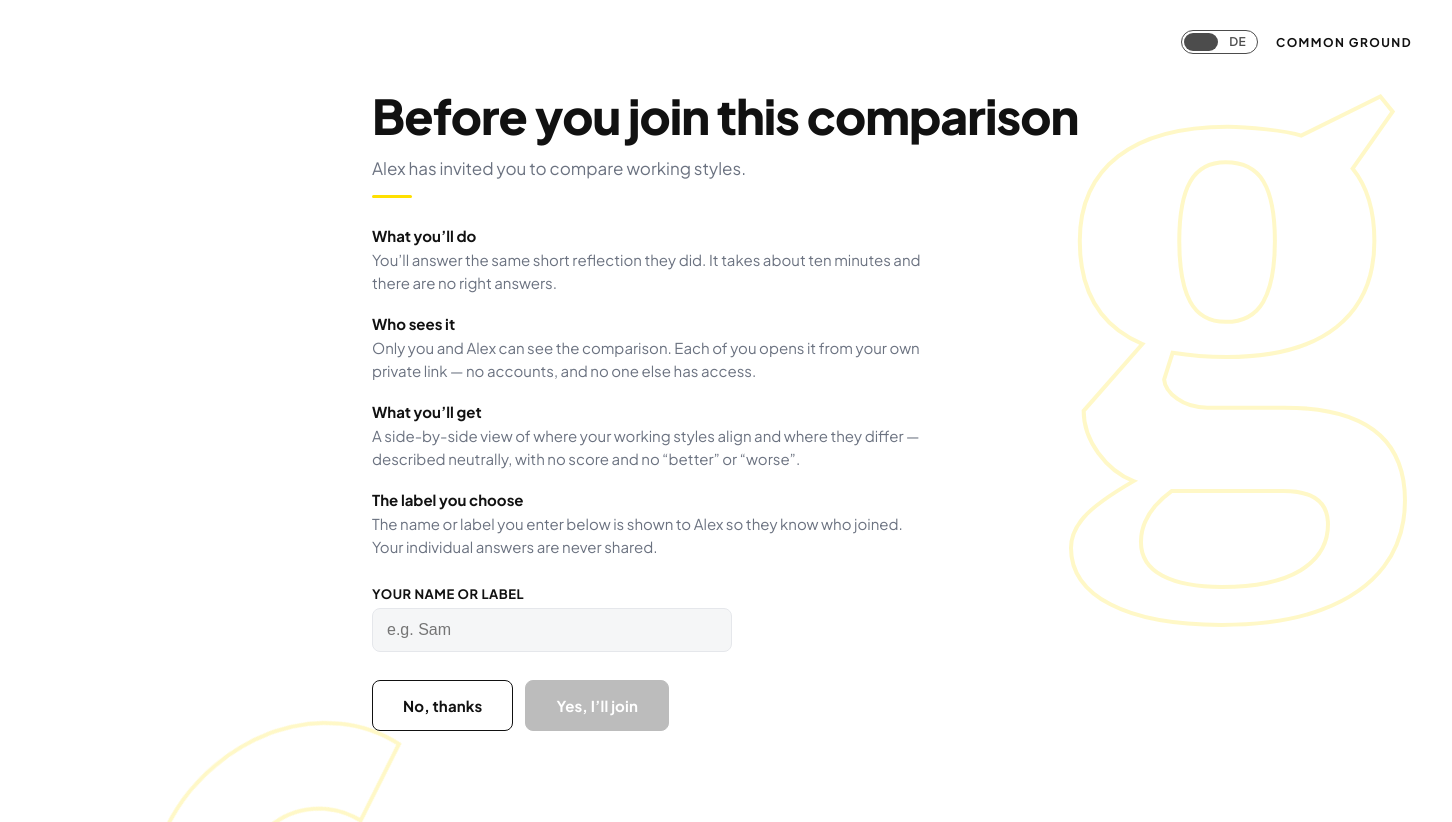
Test: InvitePage (/invite route) › accepting proceeds to the questionnaire and joining returns the invitee’s own credentials
expect the text "Alex has invited you to compare working styles." is shown: met, box [372, 157, 746, 179]
Type "Sam" into the field labelled "Your name or label" at (552, 630), box [372, 608, 732, 652]
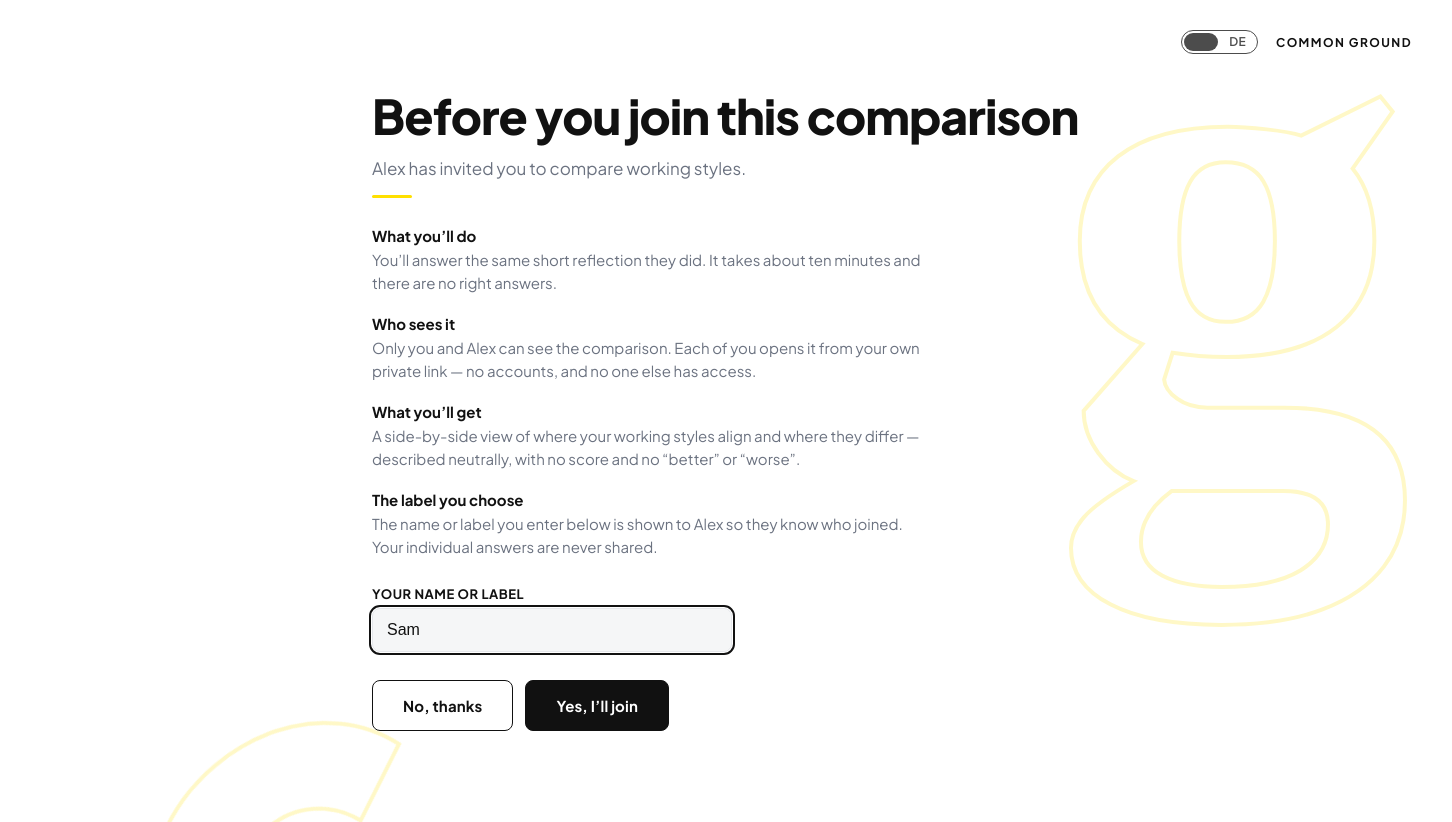
Click the button "Yes, I’ll join" at (597, 706), box [526, 680, 669, 731]
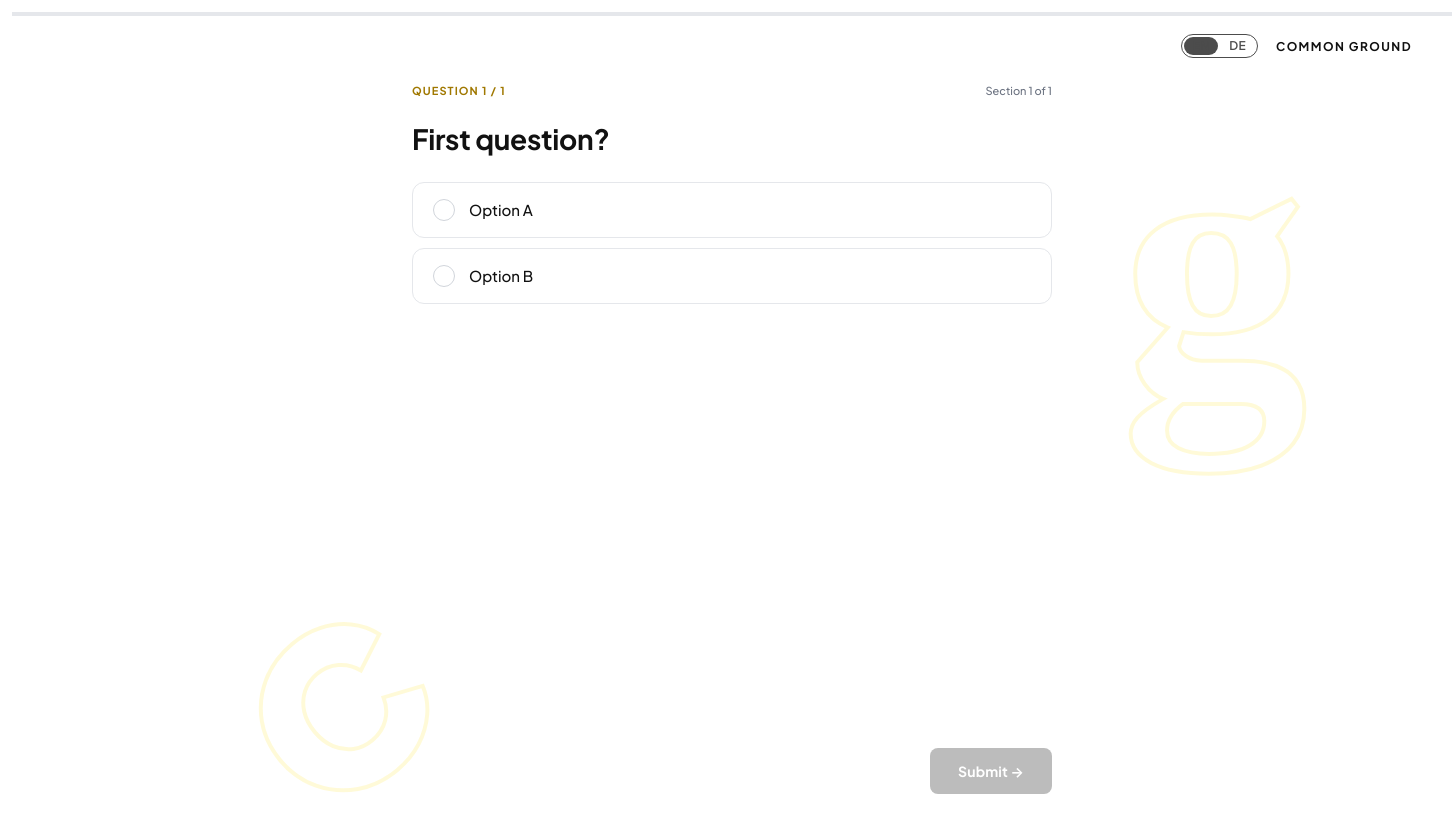
expect the heading "First question?" is shown: met, box [412, 121, 609, 156]
Click the button "Option A" at (501, 209), box [412, 182, 1052, 238]
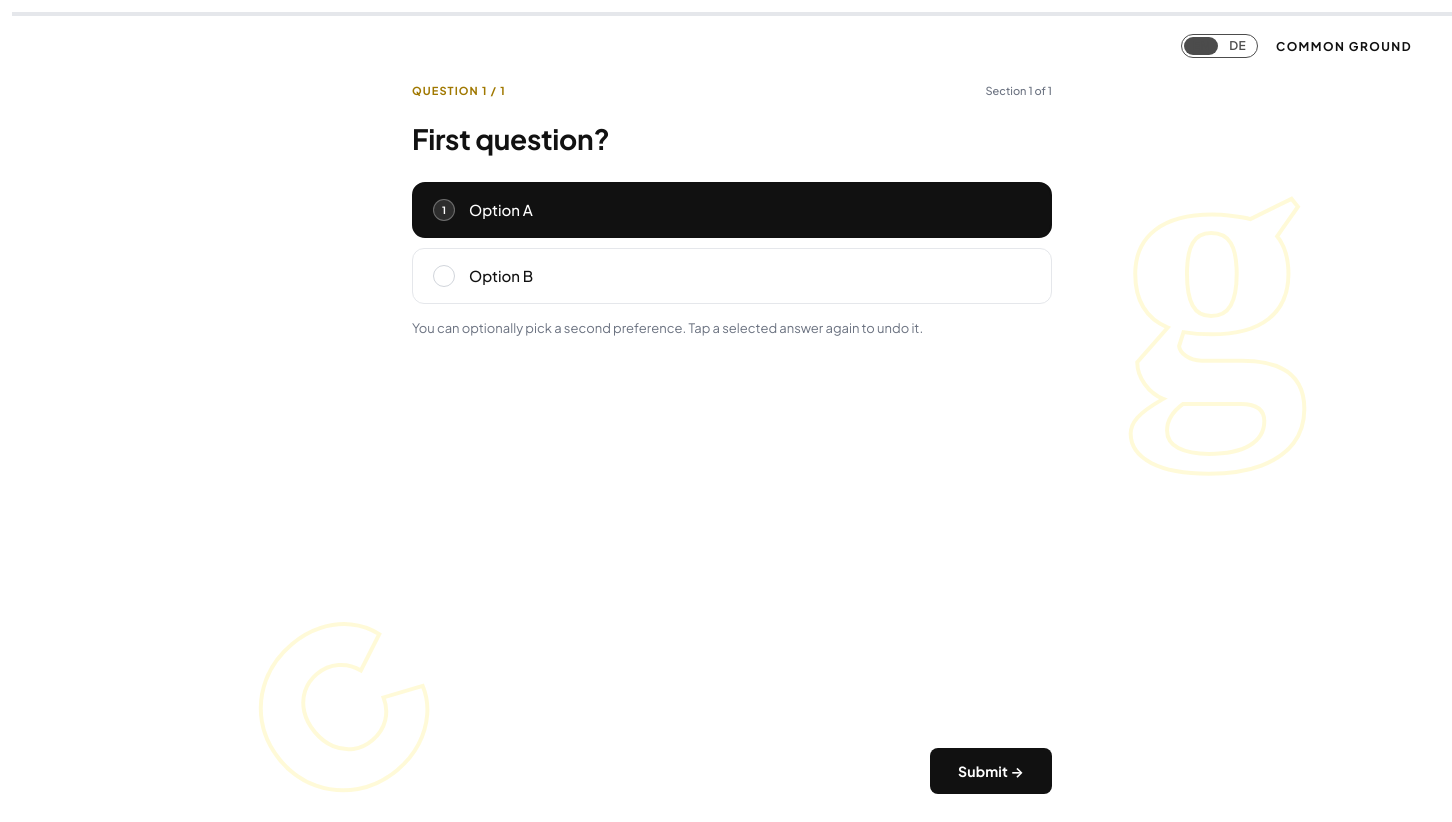
Click the button "Submit →" at (991, 771), box [930, 748, 1052, 794]
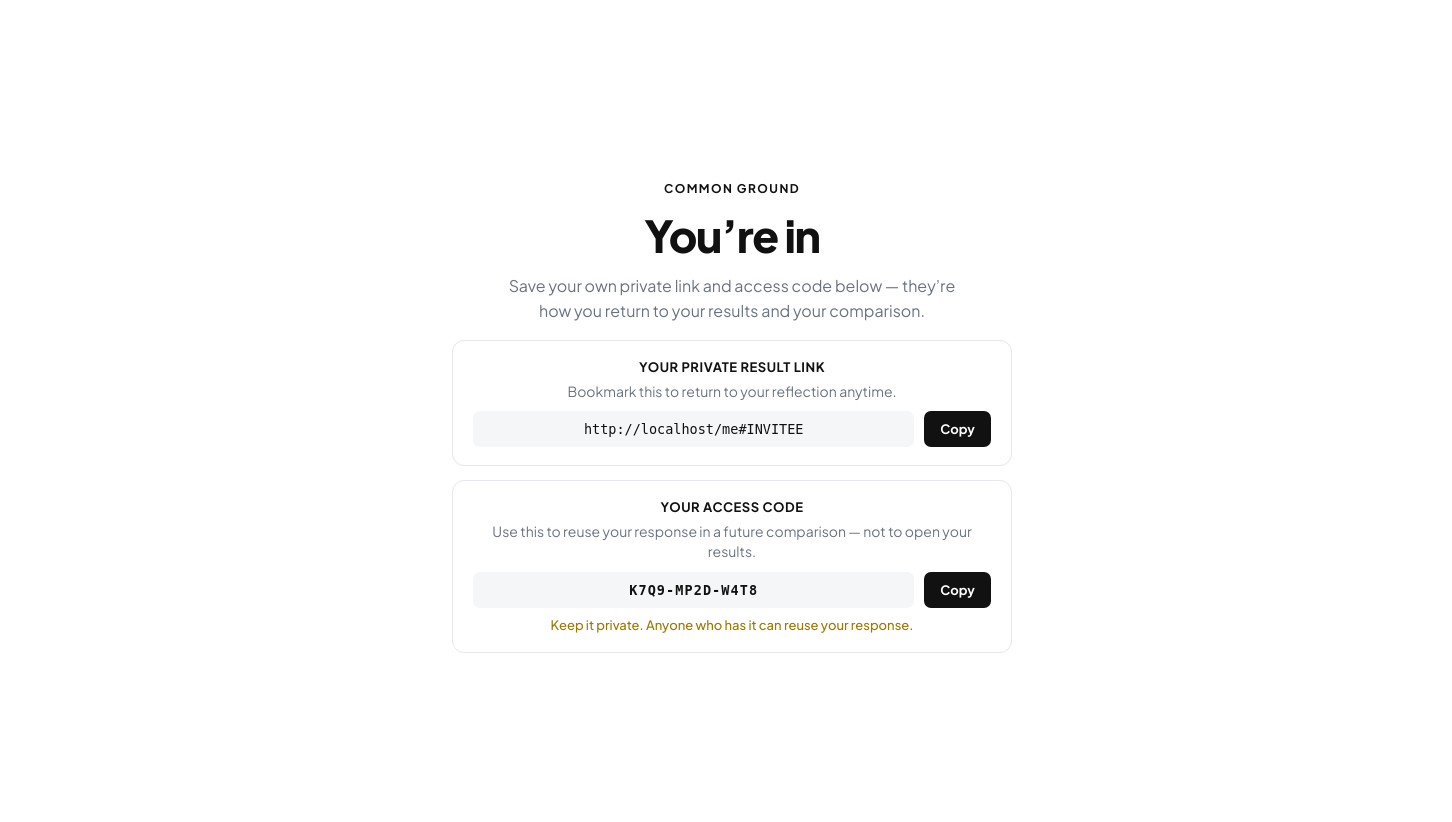
expect the heading "You’re in" is shown: met, box [644, 212, 820, 258]
expect the text "http://localhost/me#INVITEE" is shown: met, box [473, 411, 914, 447]
